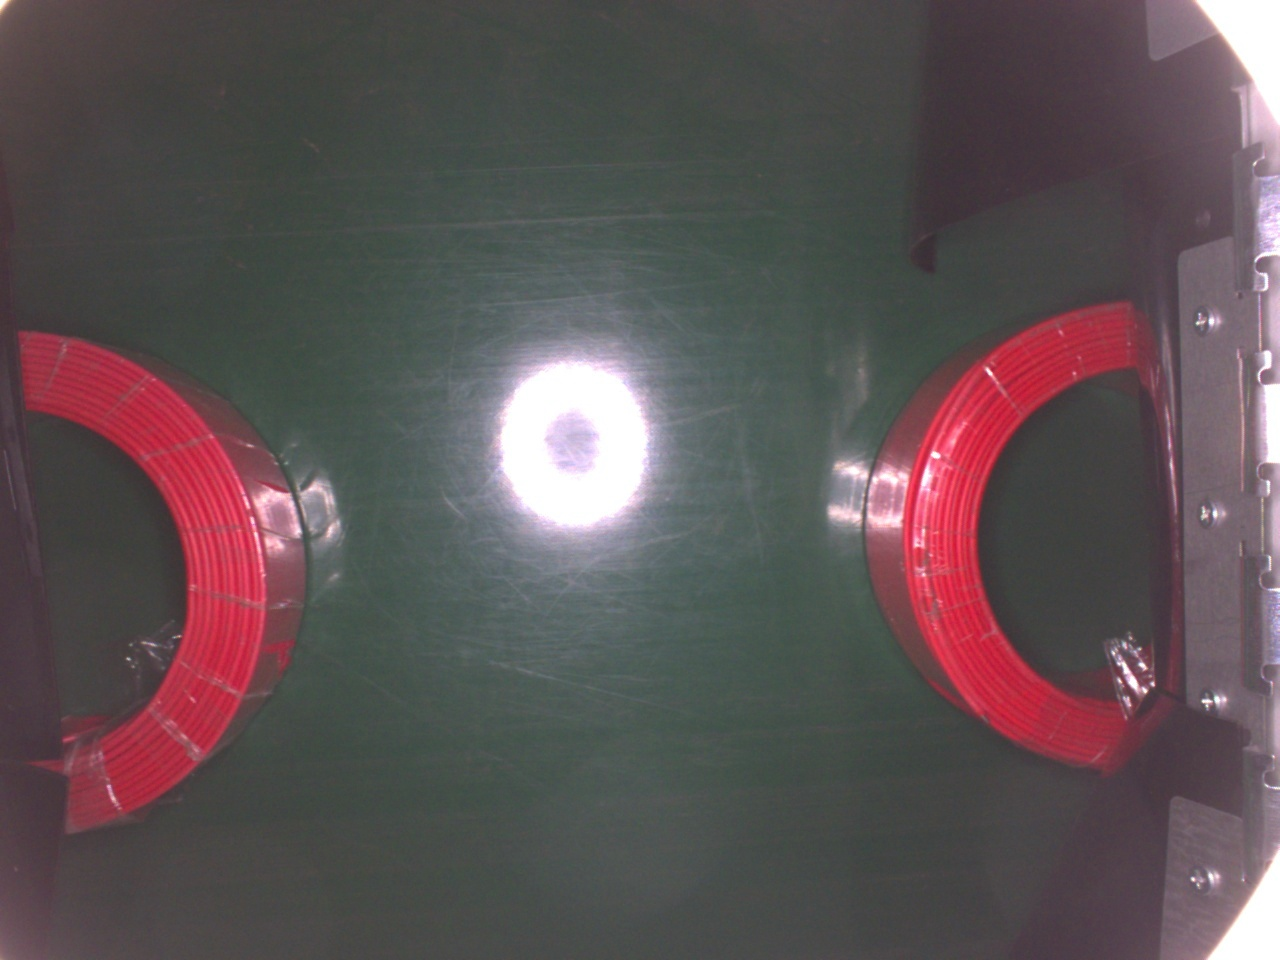red: (9, 325, 303, 837), (861, 296, 1157, 786)
